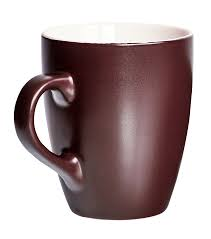cup: (5, 16, 211, 227)
